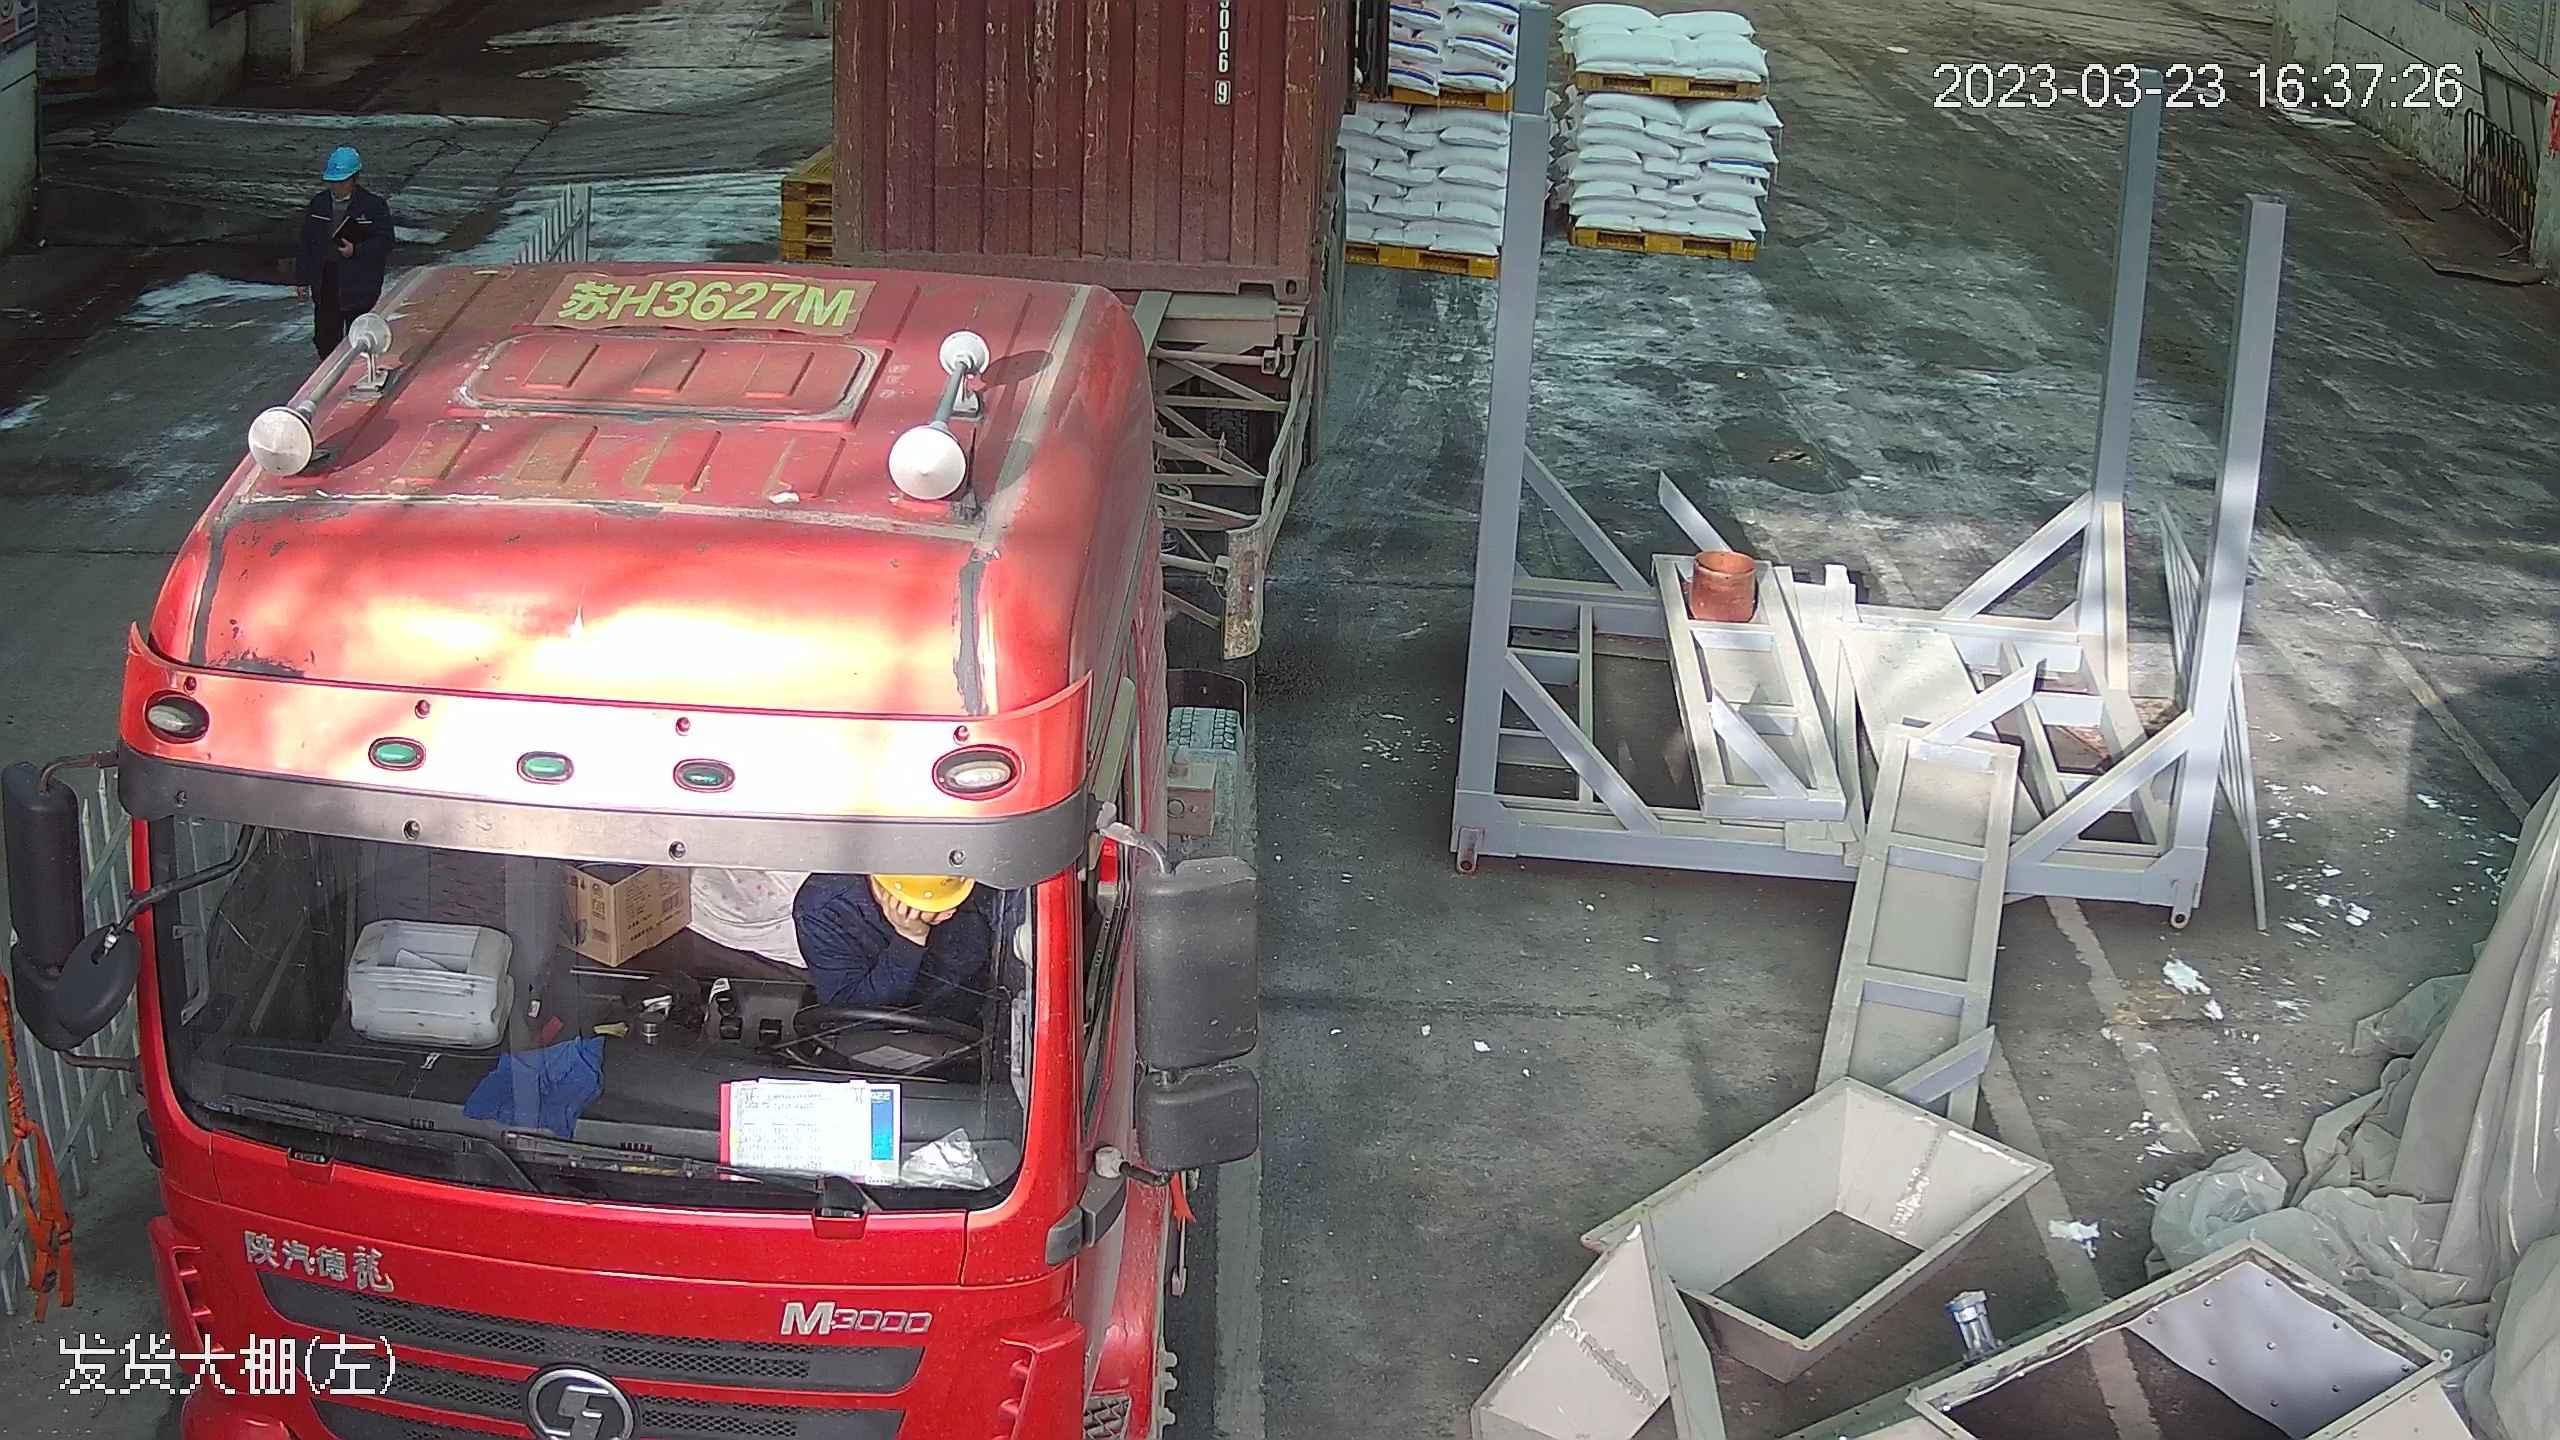head: (284, 136, 397, 354), (302, 143, 383, 229)
helmet: (321, 142, 364, 174)
people: (281, 136, 399, 365)
truck: (21, 0, 1288, 1440)
